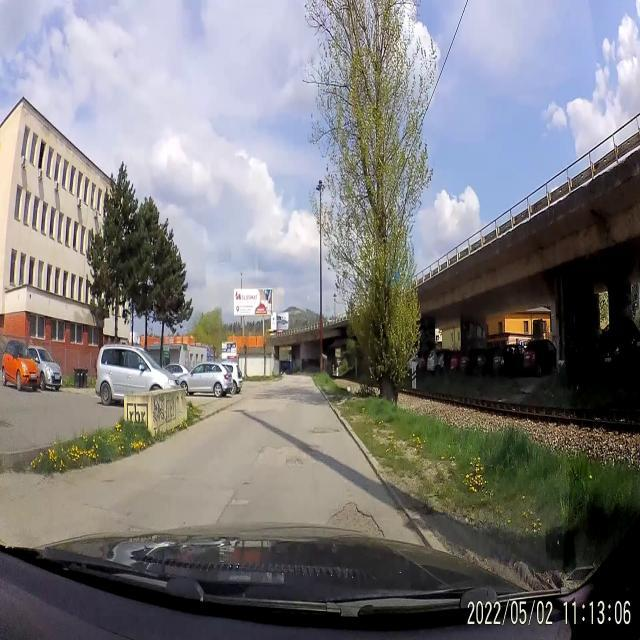Pothole: (318, 493, 386, 545), (280, 447, 307, 474), (308, 418, 338, 441), (230, 496, 248, 508), (242, 476, 252, 488), (102, 477, 116, 485), (128, 526, 144, 533)
